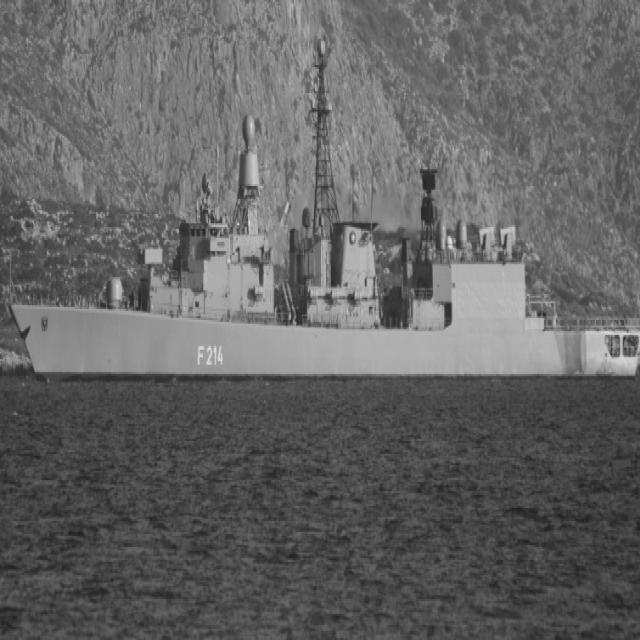Fragata: (7, 36, 640, 388)
